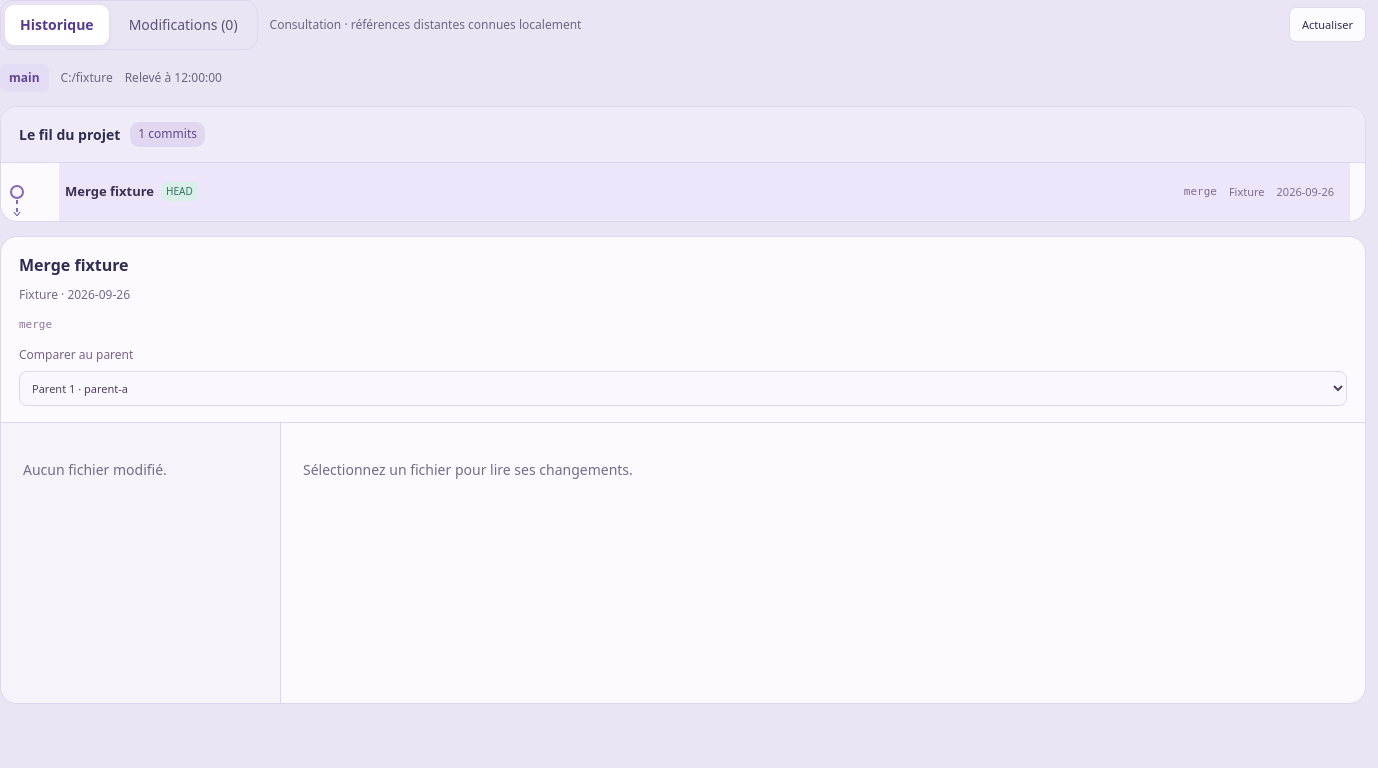
it: clean local changes lead to history and refresh between clean and changed files
Expected: the heading "Merge fixture" is shown, [19, 254, 129, 276]
Click the tab "Modifications (0)": (183, 25) [114, 5, 253, 45]
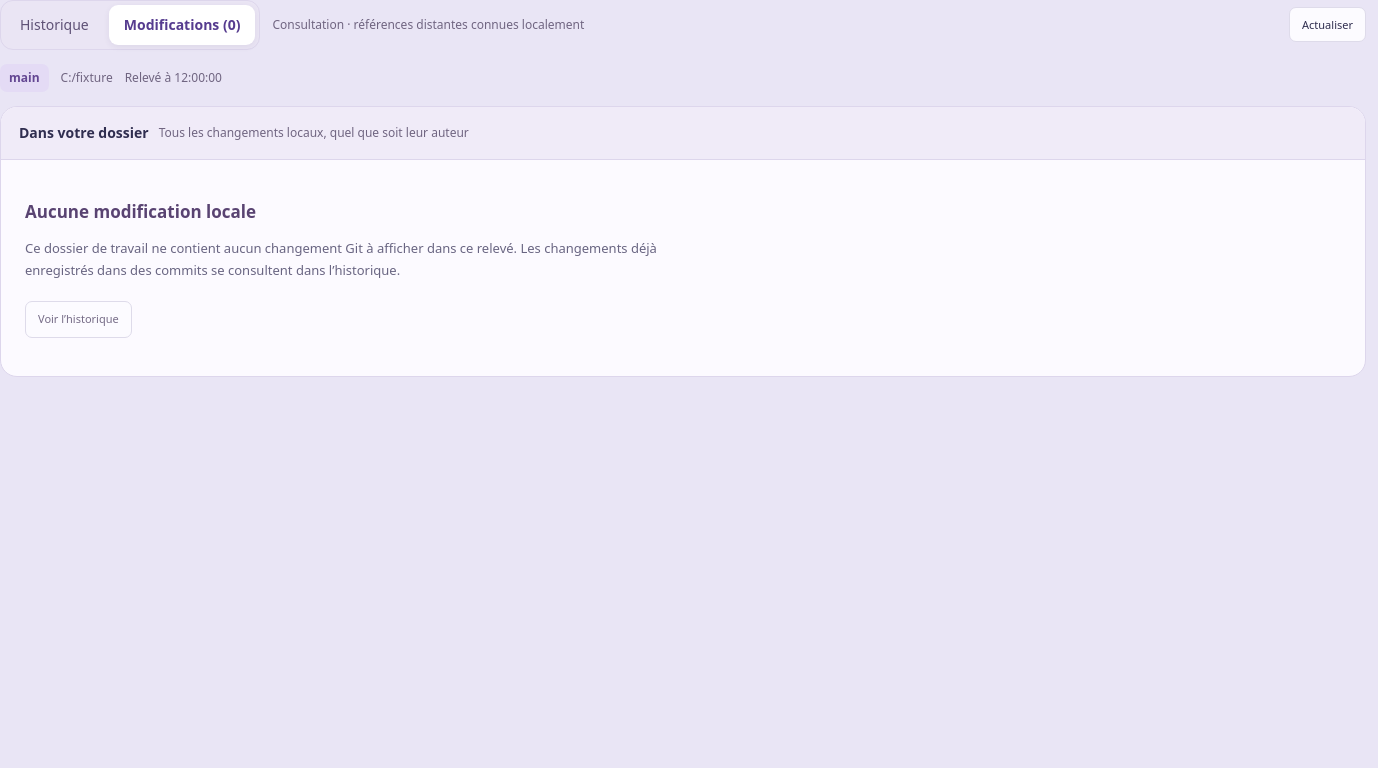
Now the heading "Aucune modification locale" is shown, box [25, 200, 256, 223]
Now the text "Sélectionnez un fichier" is gone
Click the button "Voir l’historique": (78, 319) [25, 301, 132, 338]
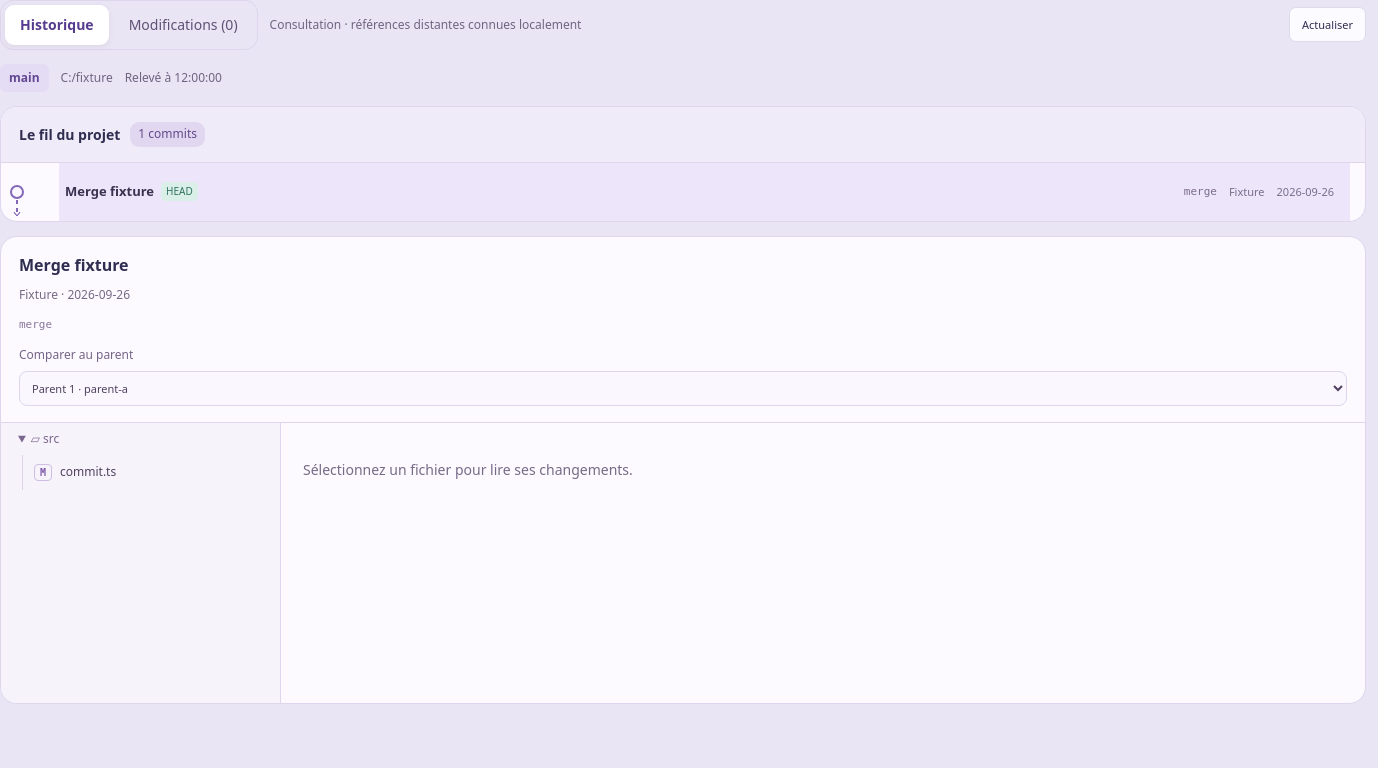
Now the heading "Merge fixture" is shown, box [19, 254, 129, 276]
Click the tab "Modifications (0)": (183, 25) [114, 5, 253, 45]
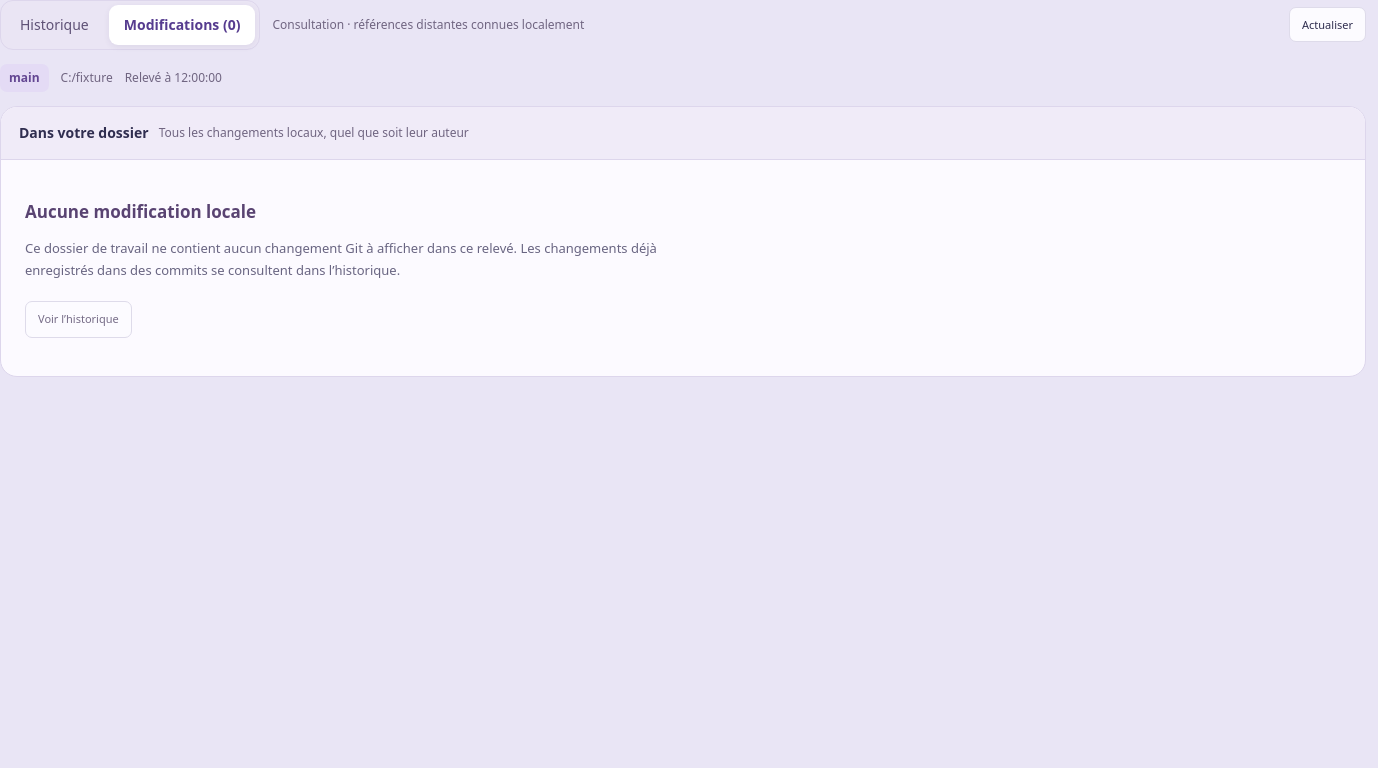
Click the button "Actualiser": (1328, 25) [1289, 7, 1366, 42]
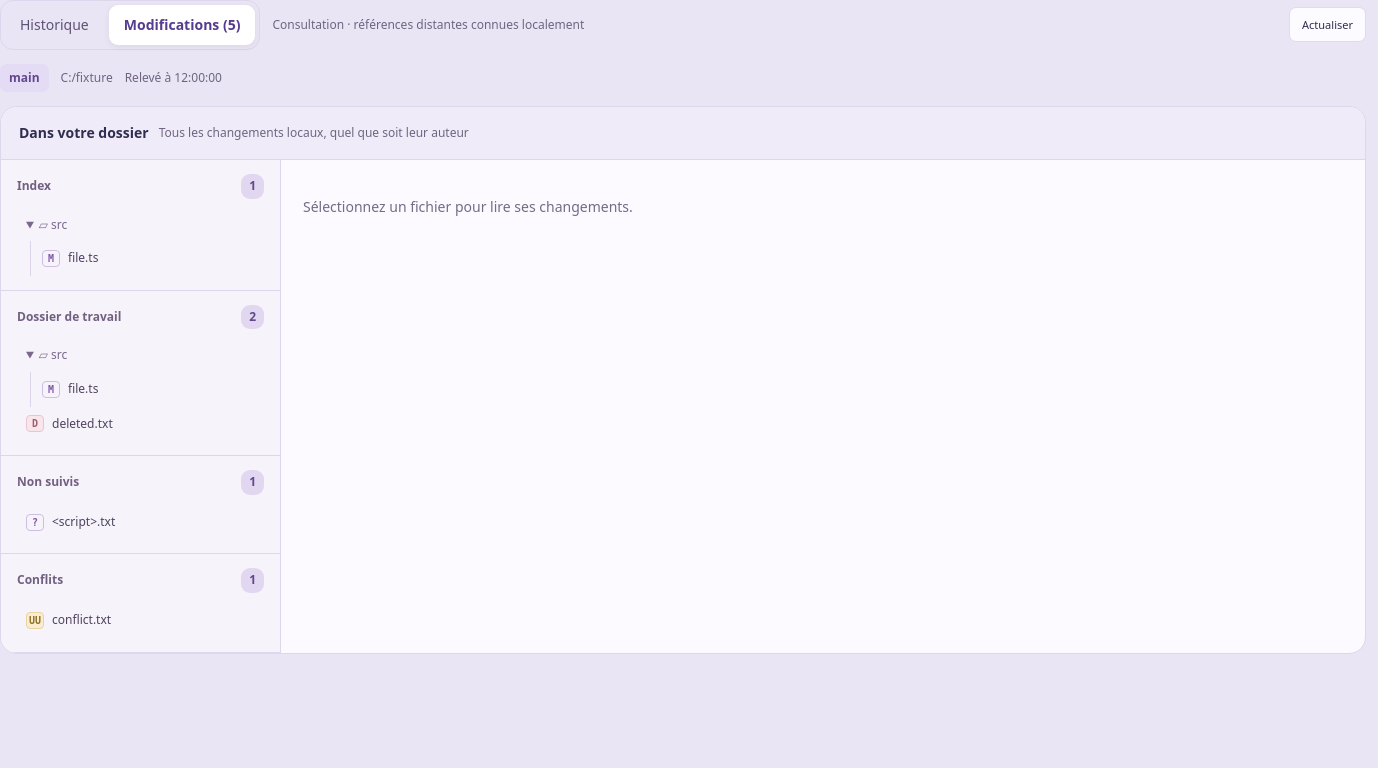
Click the button "D deleted.txt": (146, 424) [21, 406, 272, 441]
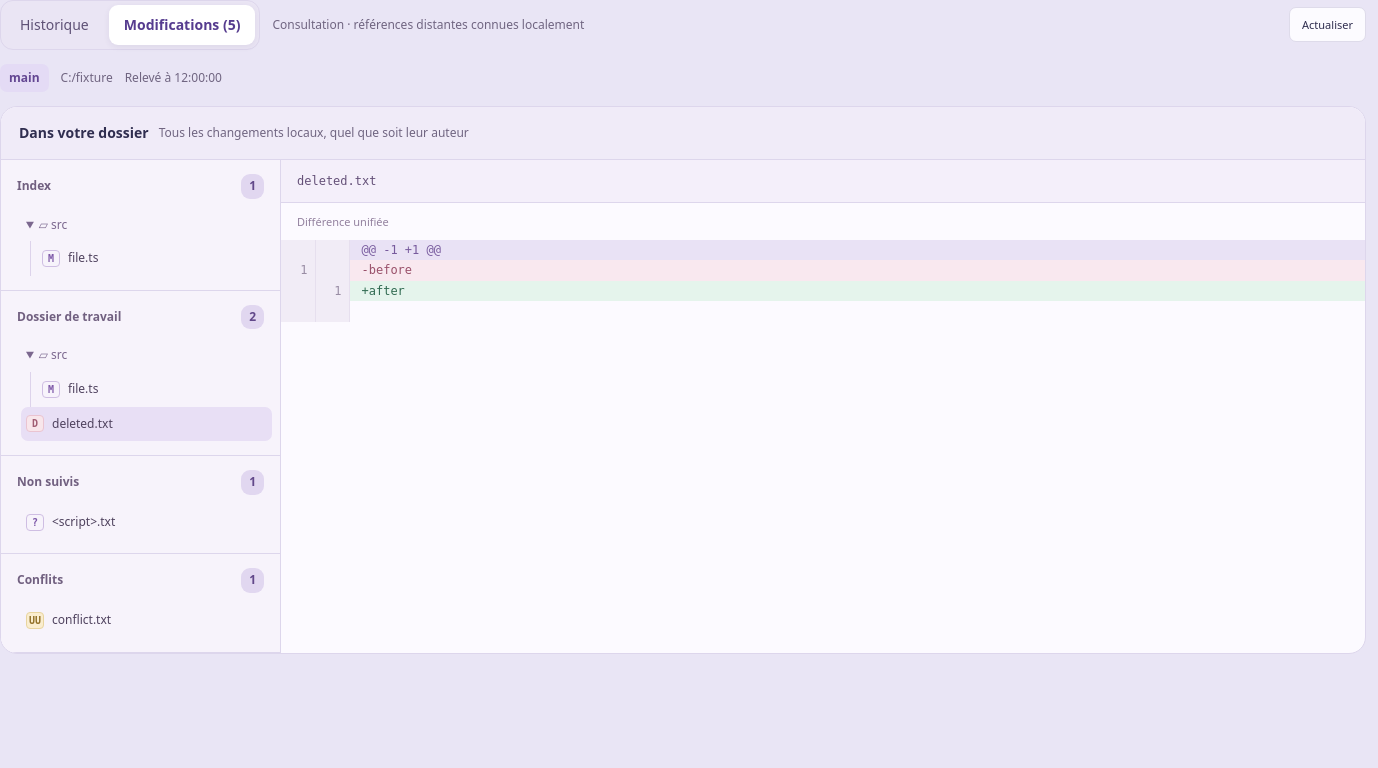
Expected: the heading "Aucune modification locale" is not shown
Now the text "+after" is shown, box [362, 284, 405, 298]
Click the button "Actualiser": (1328, 25) [1289, 7, 1366, 42]
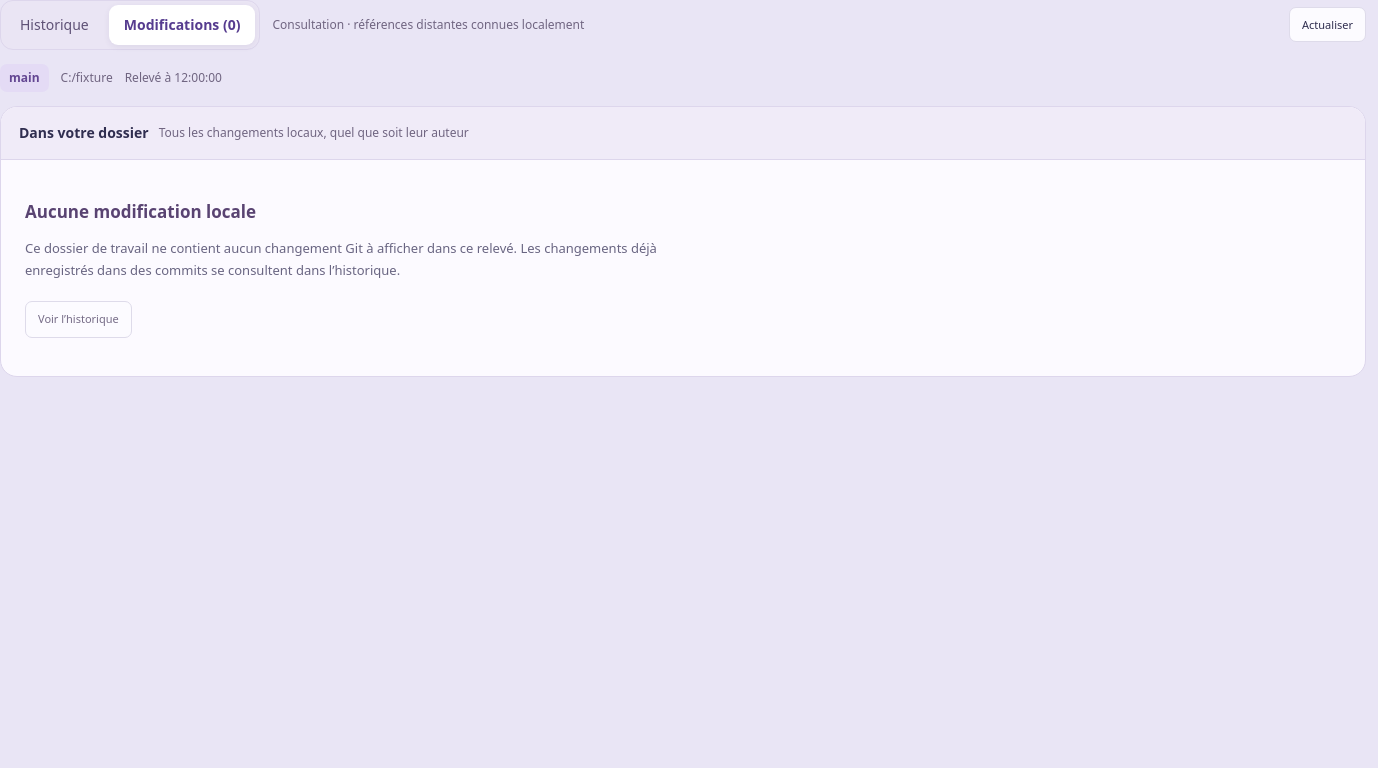
Now the heading "Aucune modification locale" is shown, box [25, 200, 256, 223]
Now the button "deleted.txt" is gone
Now the text "+after" is gone
